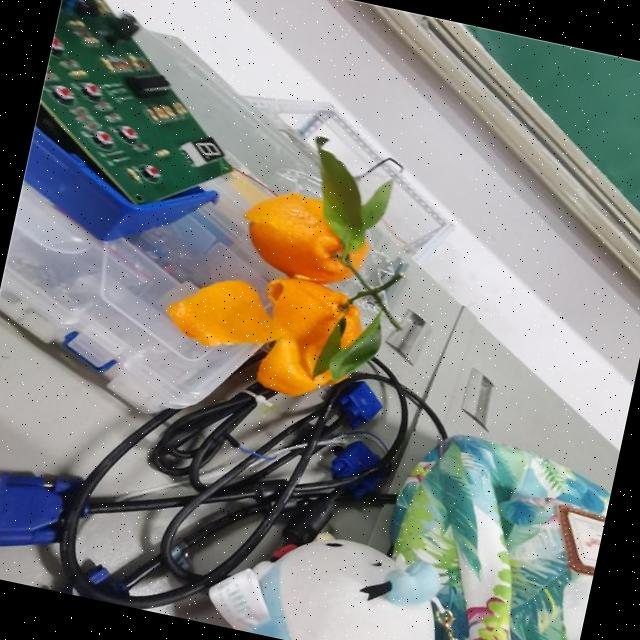orange-peel: (152, 168, 392, 408), (232, 182, 376, 292)
